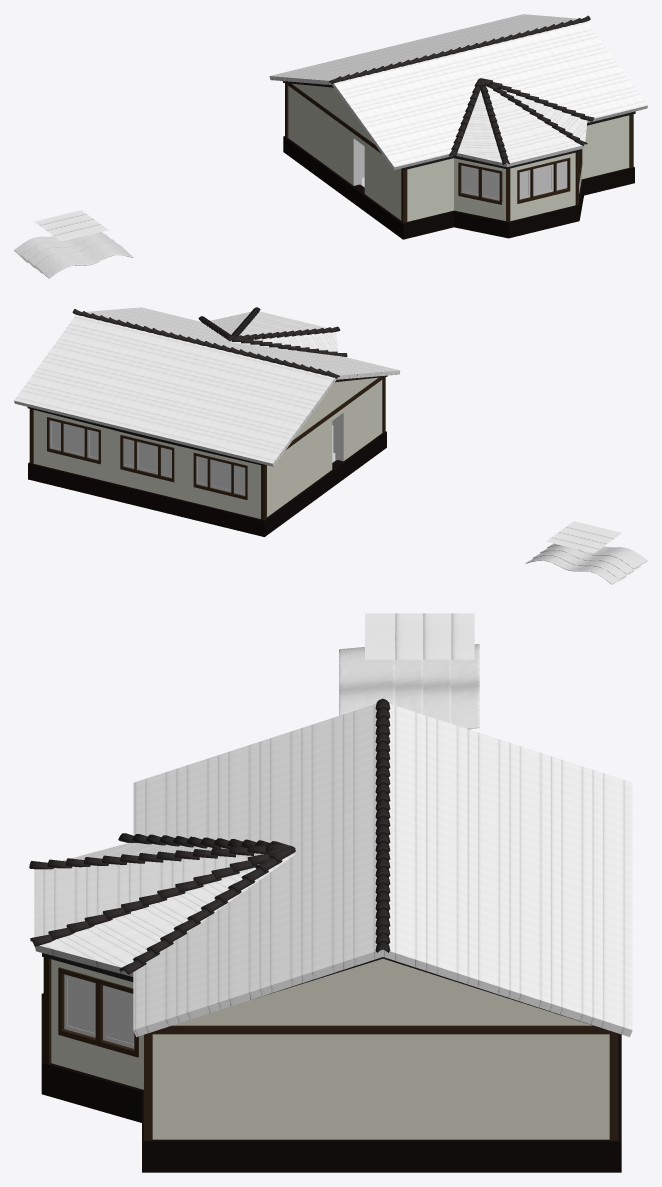
Rendered from Здание.fbx.
3 views of the same model, one above another, from view 1: azimuth 30°, elevation 25°; view 2: azimuth 150°, elevation 25°; view 3: azimuth 270°, elevation 25° (orthographic). The views are drawn at different scales.
Visible parts, largest first — view 1: Крыша, Дом Стены, Фундамент, Крыша.001, Колонны, Покрышка.003, `Проекция, Стекло.003, Обрамления окна.003, Стекло.005, Подкрышка, Покрышка.001 (+5 smaller); view 2: Крыша, Дом Стены, Фундамент, Крыша.001, Покрышка.003, `Проекция, Колонны, Стекло.001, Стекло.002, Стекло.000, Обрамления окна.002, Обрамления окна.001 (+7 smaller); view 3: Крыша, Дом Стены, Фундамент, Крыша.001, Колонны, `Проекция, Покрышка.003, Стекло.004, Покрышка.001, Покрышка.002, Покрышка.006, Обрамления окна.004 (+3 smaller).
Boxes of the visible parts, x1,y1,x2,y2 form: Крыша: [269, 14, 647, 170]; Дом Стены: [288, 83, 629, 221]; Фундамент: [283, 136, 634, 239]; Крыша.001: [14, 232, 133, 278]; Колонны: [285, 83, 633, 223]; Покрышка.003: [329, 15, 590, 83]; `Проекция: [34, 210, 108, 241]; Стекло.003: [520, 162, 565, 197]; Обрамления окна.003: [517, 157, 570, 203]; Стекло.005: [462, 167, 498, 198]; Подкрышка: [282, 81, 635, 170]; Покрышка.001: [481, 78, 587, 145]; Крыша: [14, 307, 400, 466]; Дом Стены: [33, 377, 382, 518]; Фундамент: [28, 431, 386, 536]; Крыша.001: [525, 543, 647, 584]; Покрышка.003: [72, 309, 339, 378]; `Проекция: [546, 521, 621, 553]; Колонны: [29, 377, 385, 520]; Стекло.001: [125, 440, 171, 475]; Стекло.002: [198, 458, 243, 493]; Стекло.000: [51, 422, 97, 457]; Обрамления окна.002: [193, 452, 247, 499]; Обрамления окна.001: [120, 435, 174, 482]; Крыша: [34, 703, 632, 1036]; Дом Стены: [51, 958, 609, 1139]; Фундамент: [41, 993, 621, 1172]; Крыша.001: [339, 644, 479, 729]; Колонны: [43, 957, 618, 1140]; `Проекция: [365, 613, 474, 659]; Покрышка.003: [375, 698, 390, 952]; Стекло.004: [67, 977, 134, 1044]; Покрышка.001: [30, 846, 293, 946]; Покрышка.002: [29, 843, 290, 869]; Покрышка.006: [119, 846, 295, 974]; Обрамления окна.004: [58, 967, 138, 1057].
Size of the model in its own units: 2322 by 486 by 1100.
